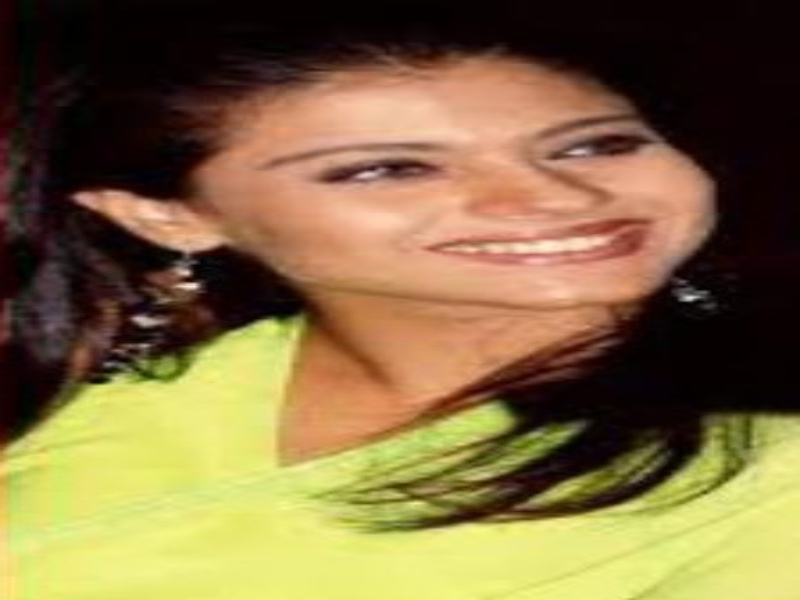TsisyArotava: (91, 33, 764, 357)
